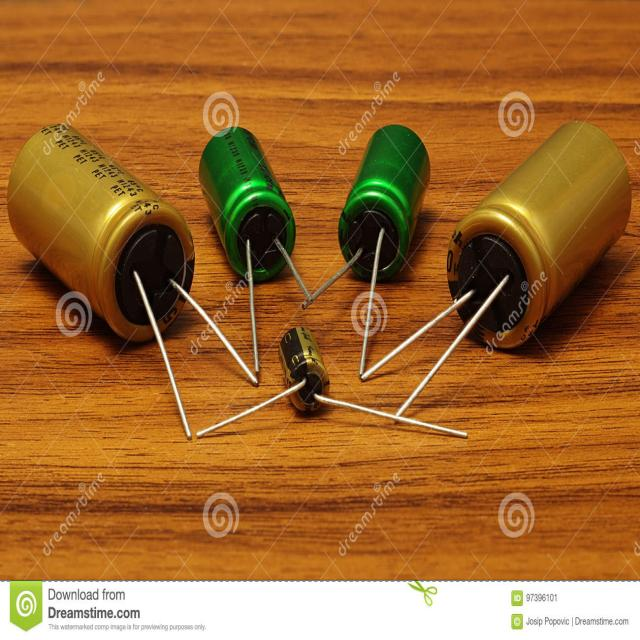Capacitor: (396, 122, 631, 416), (8, 124, 195, 343), (196, 327, 468, 438), (199, 126, 296, 373), (339, 126, 430, 374)
capacitor: (411, 342, 427, 344)
